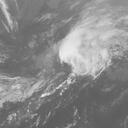cyclone: (59, 34, 110, 76)
